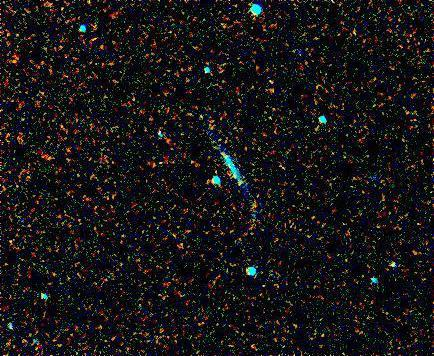star: (242, 192, 272, 222)
